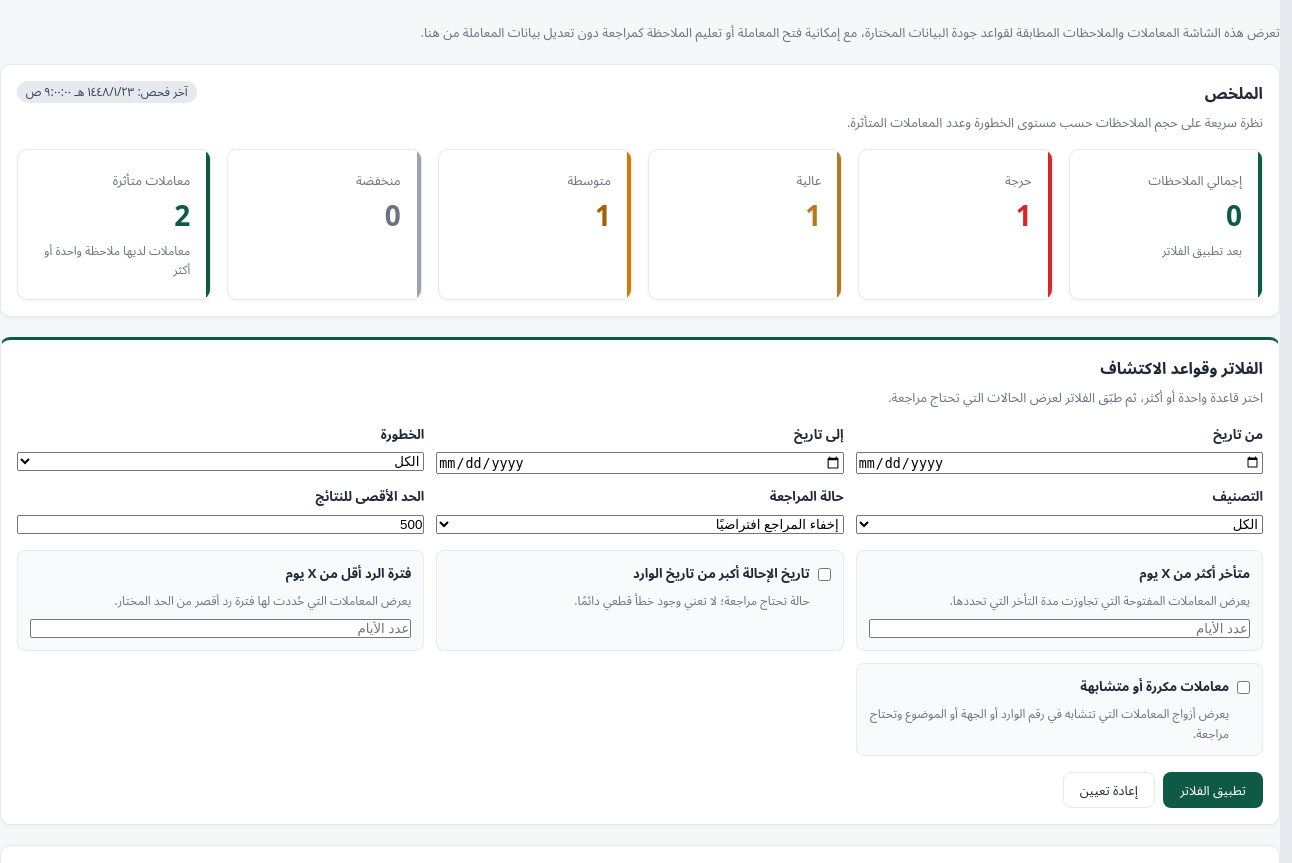
Test: DataQualityPage › shows an empty state when no results match selected rules
This screenshot has width=1292, height=863.
Type "10" into the number field with placeholder "عدد الأيام" at (1059, 628), box [869,618,1250,638]
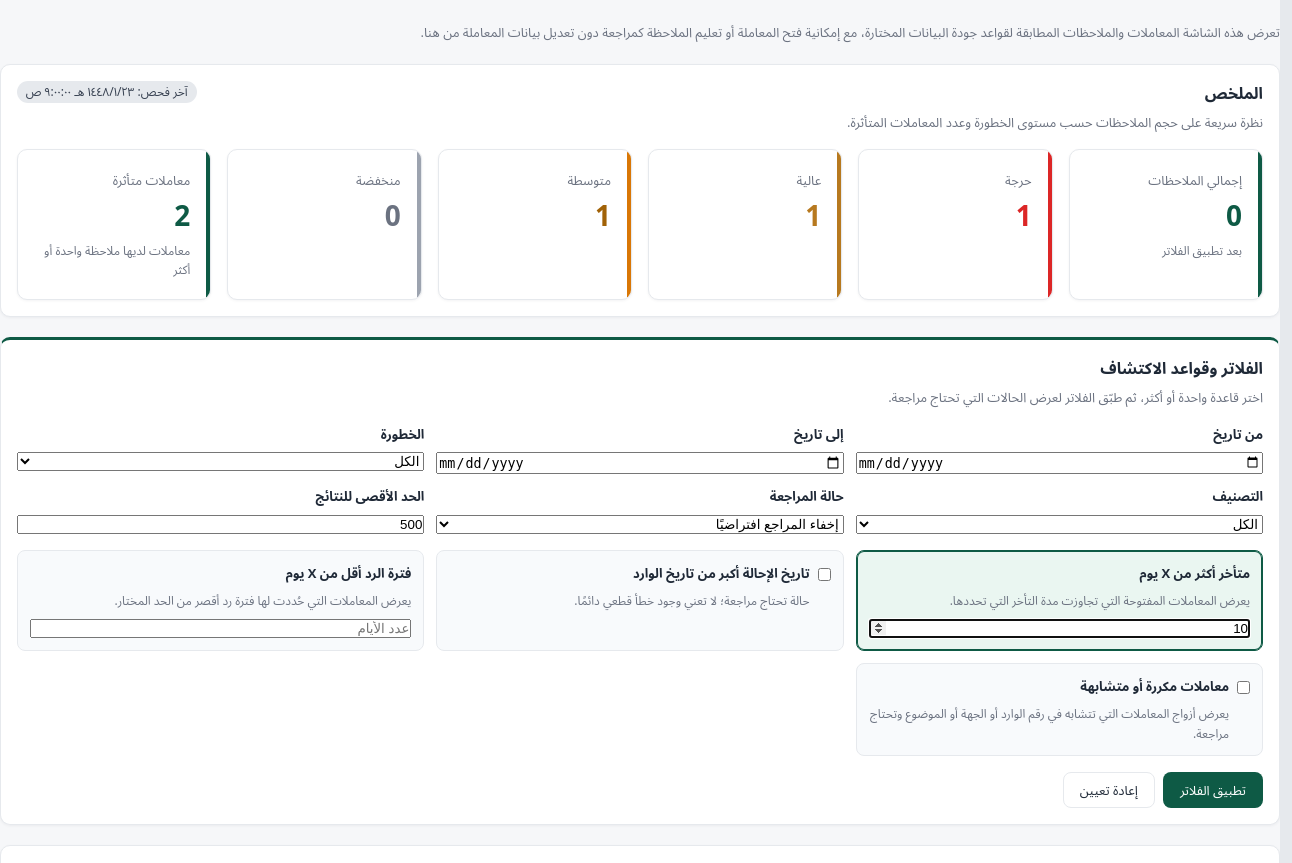
Click the button "تطبيق الفلاتر" at (1213, 790), box [1163,772,1263,808]
(page scrolled)
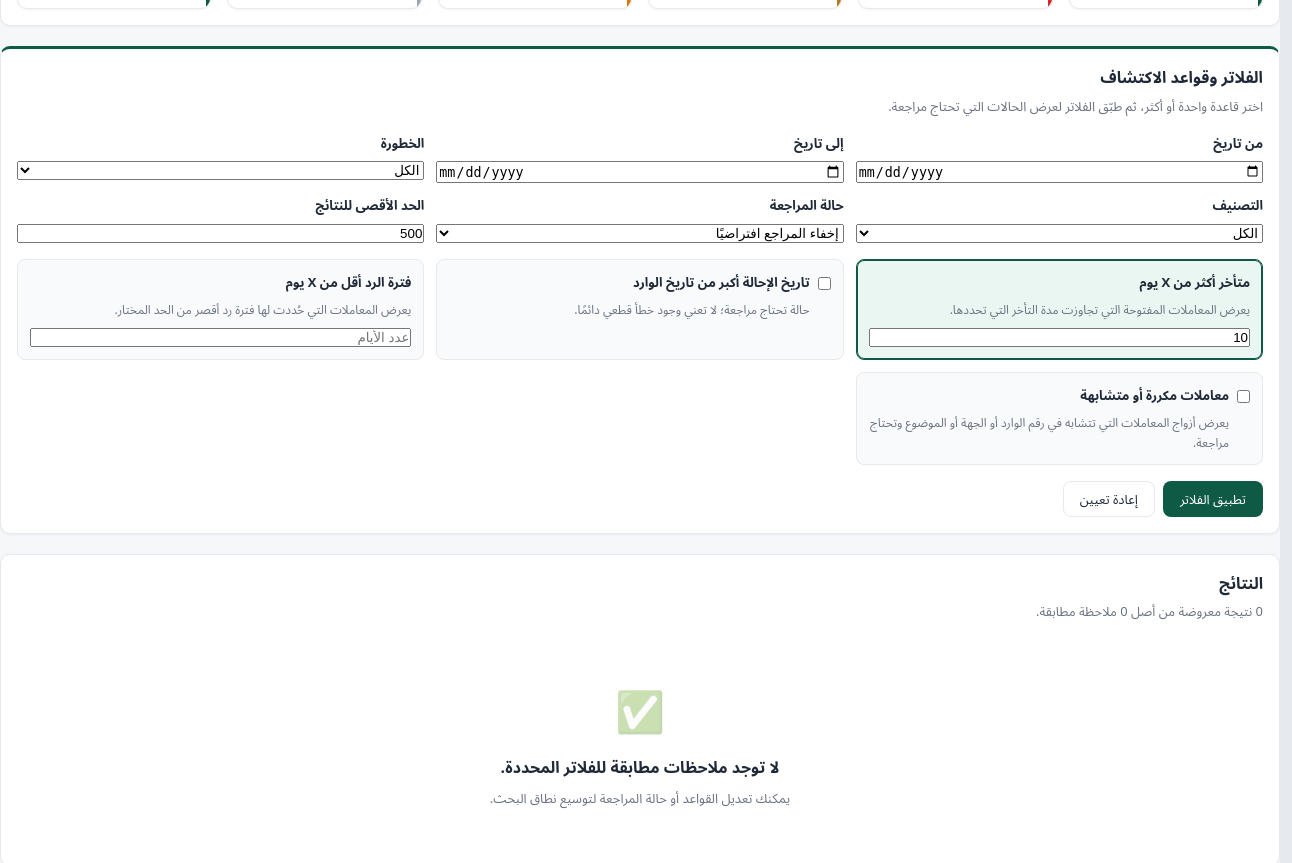
Check: the text "لا توجد ملاحظات مطابقة للفلاتر المحددة." is shown, box [501,756,779,778]
